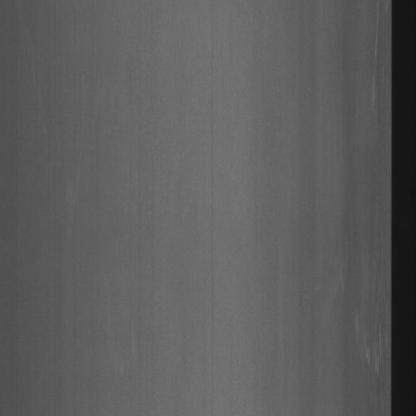silk_spot: (360, 276, 386, 404), (368, 11, 390, 124)
